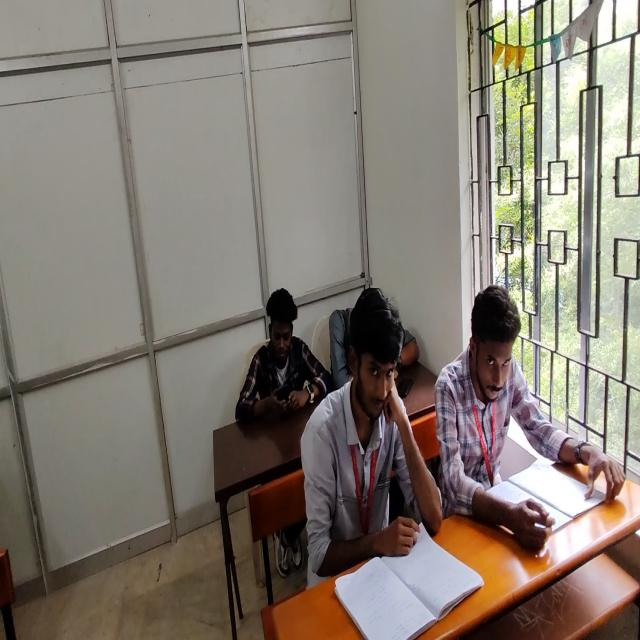listening: (437, 282, 627, 550), (300, 285, 434, 591)
sleeping: (329, 298, 414, 391)
using_mobile: (232, 284, 332, 588)
